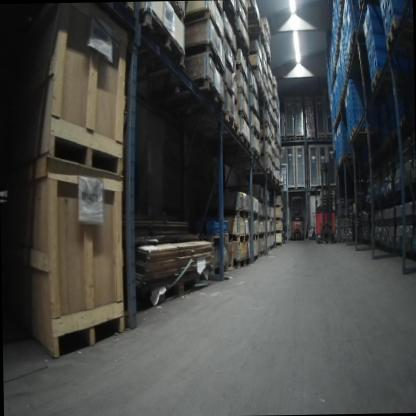forklift: (314, 161, 335, 245), (289, 196, 304, 241)
pallet: (45, 118, 123, 178), (50, 300, 124, 359), (141, 10, 185, 69), (174, 75, 224, 114), (184, 41, 225, 80), (183, 7, 224, 46), (157, 275, 194, 302), (385, 15, 401, 51), (224, 27, 237, 59), (167, 1, 184, 24), (224, 113, 239, 137), (224, 82, 238, 106), (235, 62, 248, 86), (224, 56, 236, 82), (223, 0, 237, 22), (247, 167, 273, 178), (223, 233, 249, 243), (224, 208, 250, 218), (237, 108, 249, 129), (238, 30, 248, 54), (236, 10, 247, 31), (238, 132, 250, 151), (237, 85, 248, 105), (204, 236, 228, 245), (248, 84, 258, 105), (348, 30, 356, 56), (247, 7, 259, 24), (213, 0, 223, 20), (350, 127, 372, 136), (233, 257, 250, 268), (371, 72, 380, 92), (249, 50, 261, 64), (251, 64, 262, 78), (212, 264, 227, 274), (250, 126, 260, 141), (249, 105, 259, 120), (239, 0, 247, 18), (251, 147, 260, 162), (264, 46, 271, 62), (346, 55, 351, 76), (272, 93, 278, 109), (257, 83, 264, 95), (263, 24, 269, 38), (264, 120, 270, 132), (269, 110, 274, 123), (268, 72, 273, 85), (253, 252, 259, 262), (258, 249, 265, 257), (261, 31, 265, 45), (264, 96, 269, 107), (253, 232, 259, 241), (270, 131, 275, 141), (265, 152, 271, 160), (347, 134, 351, 146), (252, 211, 257, 220), (265, 136, 270, 145), (306, 135, 315, 140), (332, 59, 336, 70), (258, 215, 264, 222), (275, 203, 282, 209), (316, 136, 326, 140), (258, 232, 264, 238), (285, 137, 294, 141), (295, 136, 304, 140), (275, 240, 281, 246), (271, 146, 275, 155), (275, 229, 282, 234), (271, 161, 275, 169), (275, 216, 281, 221), (328, 93, 331, 102), (269, 216, 274, 221), (326, 135, 332, 139), (340, 153, 343, 160), (280, 137, 285, 141), (270, 231, 274, 236), (270, 244, 273, 250), (338, 158, 340, 167), (266, 200, 269, 206)
pallet_truck: (310, 212, 316, 240), (283, 208, 286, 239)
small_load_carrier: (382, 0, 407, 37), (364, 17, 385, 50), (362, 4, 382, 36), (369, 49, 387, 79), (367, 32, 385, 61), (378, 0, 388, 16)
